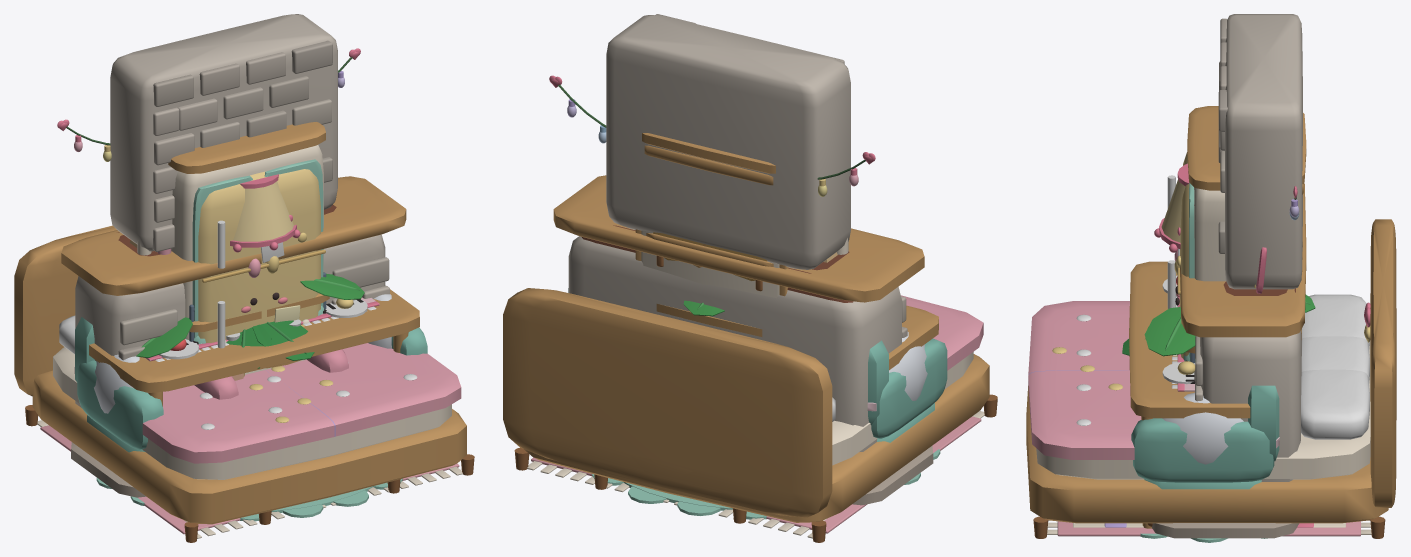
File: furniture.glb
3 renders of one model, left to right at view 1: azimuth 30°, elevation 25°; view 2: azimuth 150°, elevation 25°; view 3: azimuth 270°, elevation 25°, orthographic. The views are drawn at different scales.
Visible parts, largest first — view 1: bett, kamin, kuehlschrank, esstisch, kleiderschrank, sofa, monstera_leaves, stehlampe__glow, teppich, teppich_rund, wolkensofa_fluff, sessel (+4 smaller); view 2: kamin, bett, sofa, kleiderschrank, teppich, einzelbett, buecherregal, teppich_rund, esstisch, wolkensofa_fluff, wandregal, kuechenzeile (+2 smaller); view 3: bett, kamin, sofa, esstisch, kleiderschrank, einzelbett, teppich, wolkensofa_fluff, monstera_leaves, kuehlschrank, stehlampe__glow, klavier (+1 smaller).
Boxes of the visible parts, <box> form: bett: <box>14,225,474,542</box>; kamin: <box>61,14,406,497</box>; kuehlschrank: <box>198,169,325,348</box>; esstisch: <box>89,289,419,406</box>; kleiderschrank: <box>168,122,325,339</box>; sofa: <box>75,317,427,452</box>; monstera_leaves: <box>136,273,364,368</box>; stehlampe__glow: <box>233,181,293,241</box>; teppich: <box>37,420,462,538</box>; teppich_rund: <box>96,478,402,521</box>; wolkensofa_fluff: <box>94,294,391,413</box>; sessel: <box>194,349,348,399</box>; kamin: <box>553,14,933,505</box>; bett: <box>503,288,997,542</box>; sofa: <box>568,288,947,442</box>; kleiderschrank: <box>641,133,779,298</box>; teppich: <box>527,411,984,538</box>; einzelbett: <box>594,456,746,523</box>; buecherregal: <box>635,145,788,296</box>; teppich_rund: <box>592,449,940,519</box>; esstisch: <box>889,305,938,370</box>; wolkensofa_fluff: <box>889,332,927,400</box>; wandregal: <box>646,233,773,291</box>; kuechenzeile: <box>656,304,762,336</box>; bett: <box>1026,219,1396,538</box>; kamin: <box>1152,14,1306,538</box>; sofa: <box>1131,385,1279,526</box>; esstisch: <box>1129,261,1250,528</box>; kleiderschrank: <box>1187,106,1306,358</box>; einzelbett: <box>1026,324,1396,445</box>; teppich: <box>1047,520,1371,536</box>; wolkensofa_fluff: <box>1162,392,1243,464</box>; monstera_leaves: <box>1122,294,1315,356</box>; kuehlschrank: <box>1167,152,1189,358</box>; stehlampe__glow: <box>1161,179,1185,242</box>; klavier: <box>1171,281,1295,388</box>.
Size of the model in its own units: 1.98 by 2.4 by 1.98.
